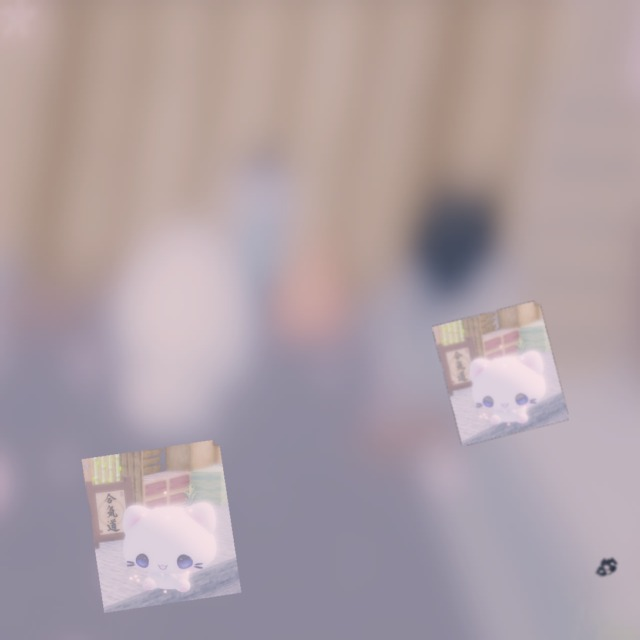urso_branco: (81, 439, 242, 613), (432, 300, 569, 446)
urso_preto: (590, 553, 621, 583)
